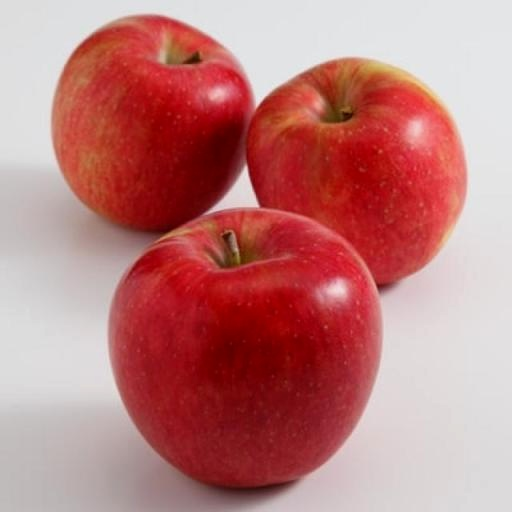fruit: (109, 209, 380, 487), (247, 59, 465, 283), (52, 16, 252, 229)
